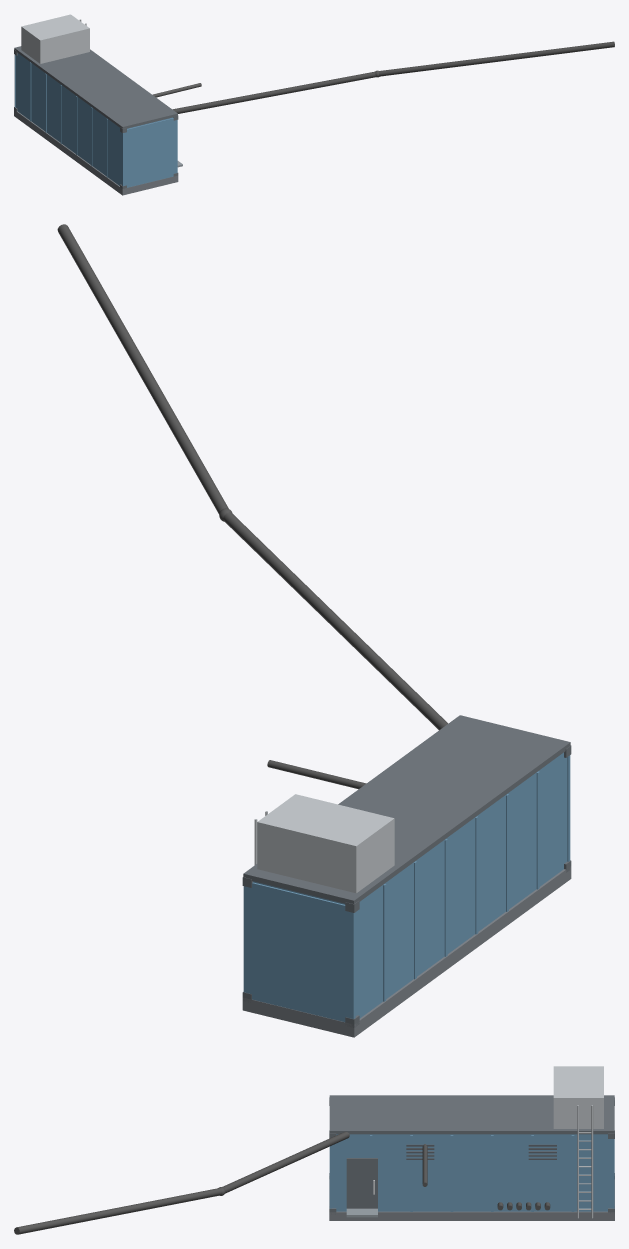
Rendered from vfd.glb.
The picture shows the model from 3 angles, top to bottom: view 1: azimuth 30°, elevation 25°; view 2: azimuth 150°, elevation 25°; view 3: azimuth 270°, elevation 25°; orthographic projection. The views are drawn at different scales.
Parts seen in each view (by area): view 1: object 1, object 11, object 10, object 17, object 19, object 18, object 2; view 2: object 1, object 11, object 3, object 17, object 2, object 19, object 18; view 3: object 1, object 11, object 17, object 2, object 19, object 12, inst (×3), object 18, object 23, object 14, object 4, object 7 (+1 smaller).
Part boxes in pixels (<box>): object 1: <box>16,53,173,185</box>; object 11: <box>14,46,177,128</box>; object 10: <box>122,118,177,187</box>; object 17: <box>21,14,89,63</box>; object 19: <box>378,41,614,76</box>; object 18: <box>172,71,375,113</box>; object 2: <box>14,110,178,195</box>; object 1: <box>253,752,567,1018</box>; object 11: <box>243,715,570,903</box>; object 3: <box>243,882,355,1021</box>; object 17: <box>257,794,394,893</box>; object 2: <box>242,866,571,1037</box>; object 19: <box>57,224,228,514</box>; object 18: <box>223,512,447,730</box>; object 1: <box>332,1134,612,1211</box>; object 11: <box>329,1095,614,1134</box>; object 17: <box>553,1066,603,1128</box>; object 2: <box>329,1179,614,1220</box>; object 19: <box>14,1188,222,1234</box>; object 12: <box>346,1158,377,1208</box>; inst (×3): <box>406,1132,591,1210</box>; object 18: <box>222,1131,349,1193</box>; object 23: <box>591,1105,593,1218</box>; object 14: <box>346,1208,377,1217</box>; object 4: <box>571,1135,574,1211</box>; object 7: <box>450,1135,453,1211</box>.
Size of the model in its own units: 18.13 by 6.91 by 19.14.
